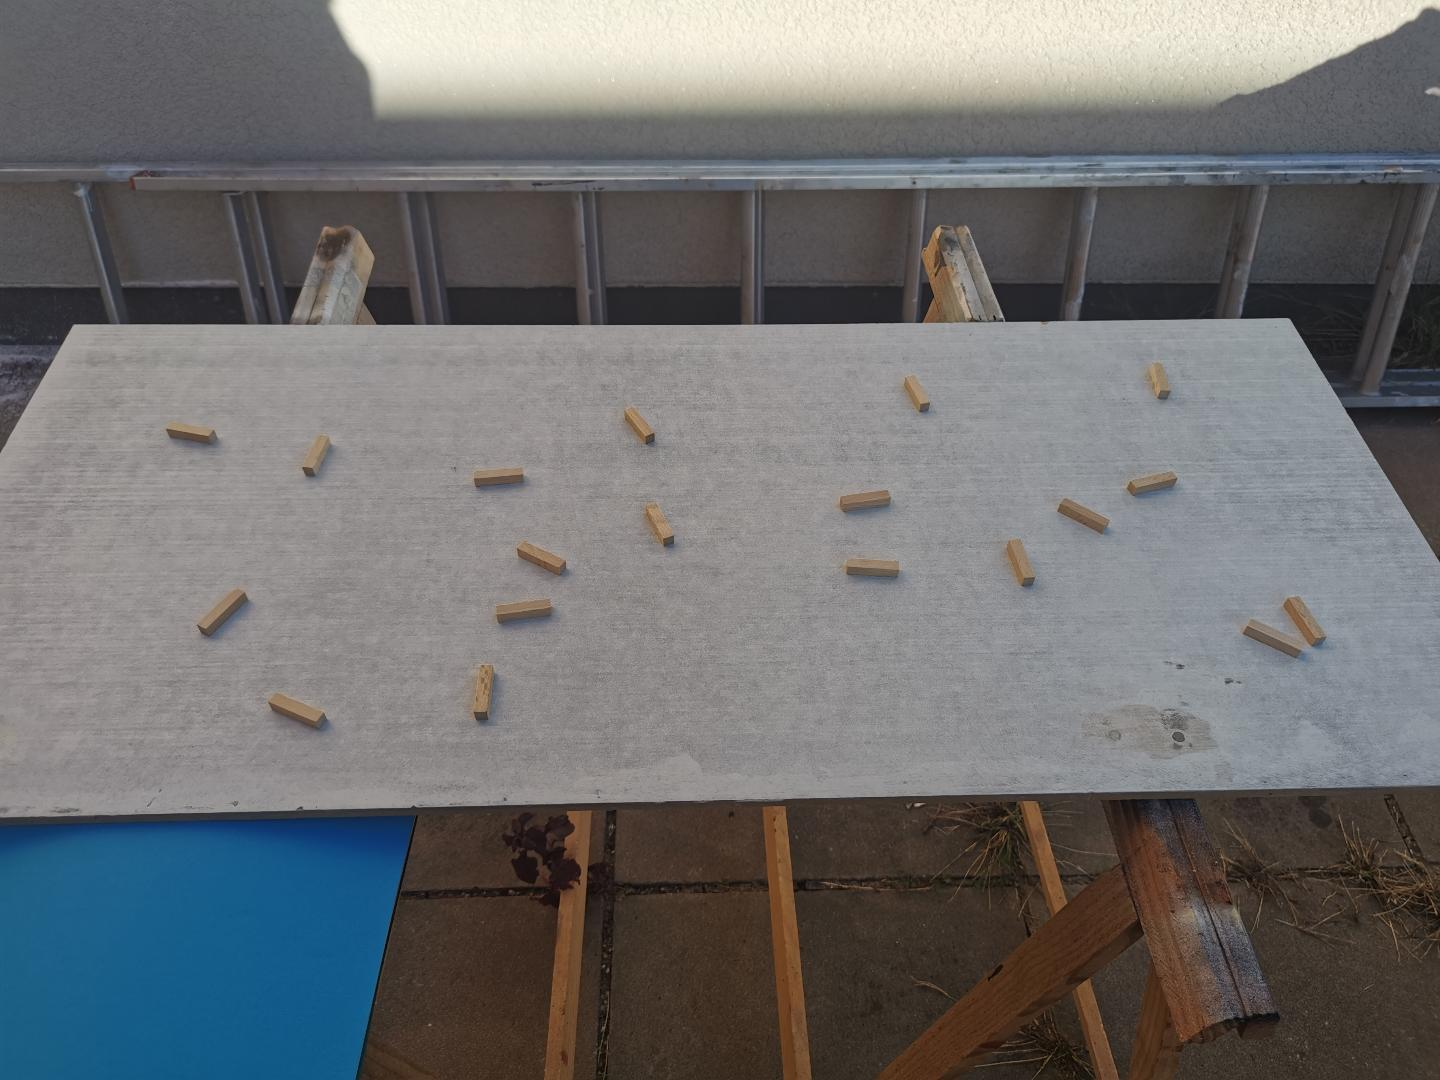jenga: (1243, 618, 1305, 658), (197, 588, 247, 635), (268, 692, 327, 728), (1282, 597, 1324, 647), (1058, 498, 1108, 532), (517, 542, 566, 574), (473, 664, 495, 720), (1007, 540, 1035, 585), (495, 599, 551, 622), (166, 422, 217, 445), (625, 407, 655, 445), (647, 504, 675, 546), (841, 489, 891, 512), (300, 436, 329, 475), (1128, 472, 1176, 495), (847, 557, 900, 576), (473, 467, 523, 487), (906, 374, 931, 411), (1151, 363, 1170, 399)
